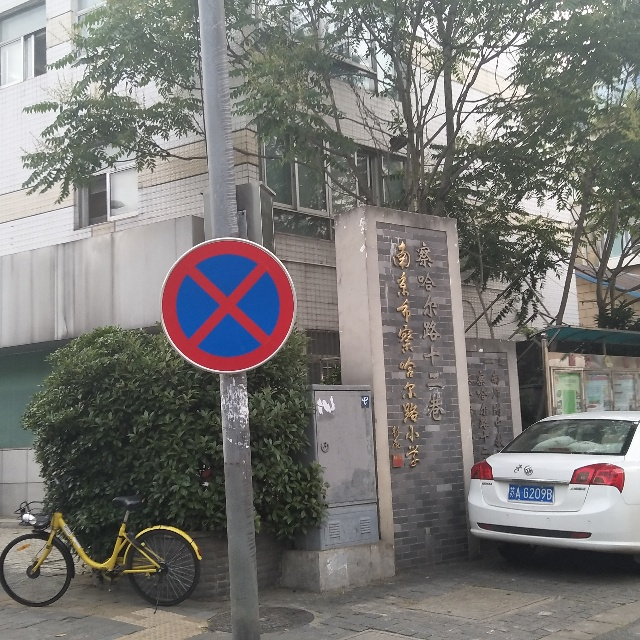stop: (170, 252, 293, 364)
